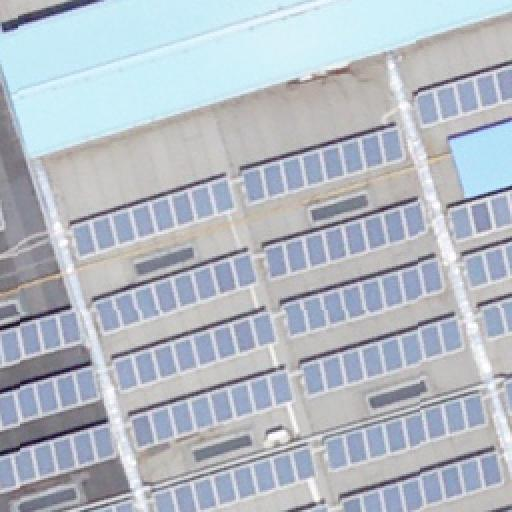solar-panel: (130, 365, 298, 451), (300, 313, 468, 399), (111, 308, 281, 392), (71, 176, 241, 260), (92, 252, 260, 336), (322, 391, 494, 473), (241, 124, 407, 208), (282, 255, 450, 337), (265, 203, 431, 277), (150, 444, 322, 512), (340, 448, 508, 512), (0, 419, 120, 493), (0, 361, 104, 431), (416, 64, 512, 128), (1, 305, 87, 367), (448, 193, 512, 247), (464, 242, 512, 290), (480, 296, 512, 340), (90, 497, 138, 511), (500, 377, 512, 415), (298, 504, 330, 512), (1, 210, 7, 234), (500, 505, 512, 511)
